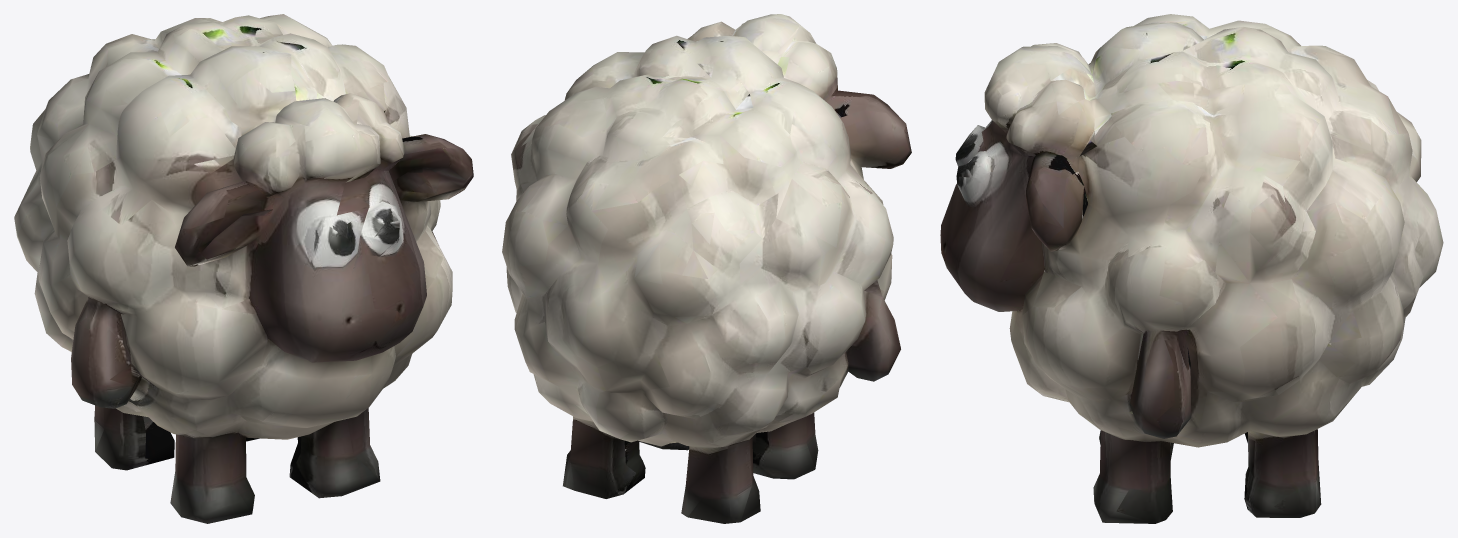
The model's file is sheep-low.glb.
3 renders of one model, left to right at view 1: azimuth 30°, elevation 25°; view 2: azimuth 150°, elevation 25°; view 3: azimuth 270°, elevation 25°, orthographic. The views are drawn at different scales.
Parts seen in each view (by area): view 1: sheep_LOD1; view 2: sheep_LOD1; view 3: sheep_LOD1.
Part boxes in pixels (x1=…): sheep_LOD1: x1=14, y1=14, x2=473, y2=523; sheep_LOD1: x1=502, y1=14, x2=911, y2=523; sheep_LOD1: x1=940, y1=14, x2=1443, y2=523.
Bounding box in the file's own units: 0.847 × 0.9518 × 0.9741.
1 material, 1 textured.
